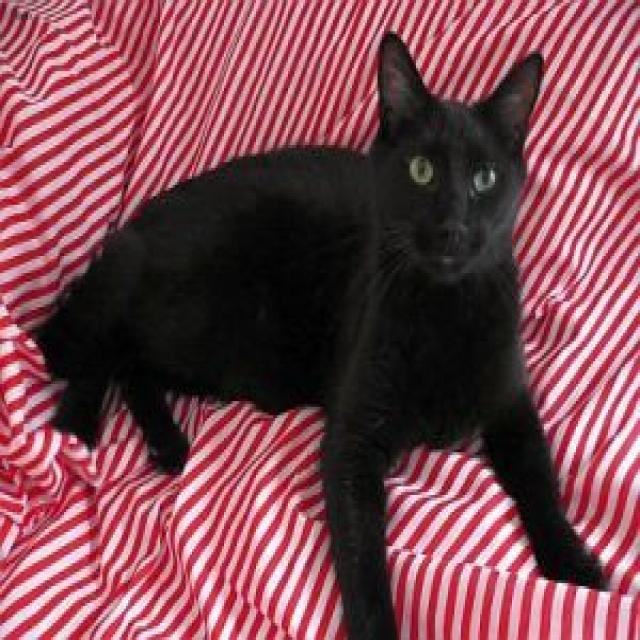Bombay: (366, 23, 554, 294)
